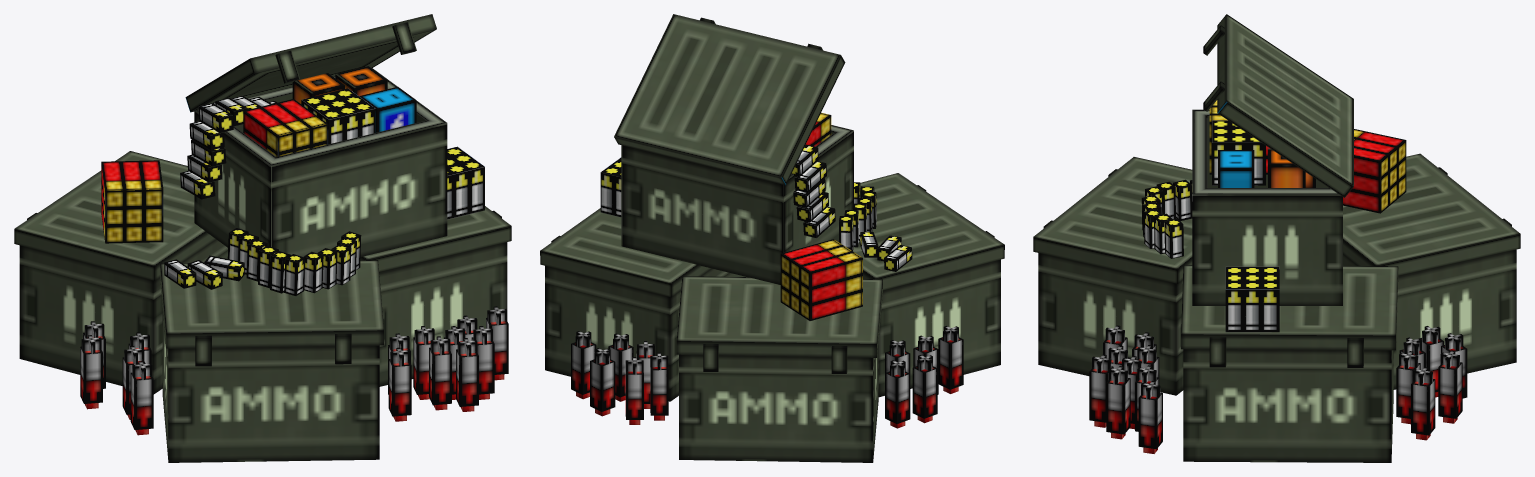
Rendered from Point_Ammo #937515.fbx.
3 views of the same model, side by side, from view 1: azimuth 30°, elevation 25°; view 2: azimuth 150°, elevation 25°; view 3: azimuth 270°, elevation 25° (orthographic). The views are drawn at different scales.
Visible parts, largest first — view 1: Point_Ammo; view 2: Point_Ammo; view 3: Point_Ammo.
Part boxes in pixels (x1,y1,x2,y2): Point_Ammo: (14, 14, 511, 462); Point_Ammo: (540, 14, 1004, 462); Point_Ammo: (1033, 14, 1520, 462).
Size of the model in its own units: 2.18 by 1.86 by 2.43.
1 material, 1 textured.
